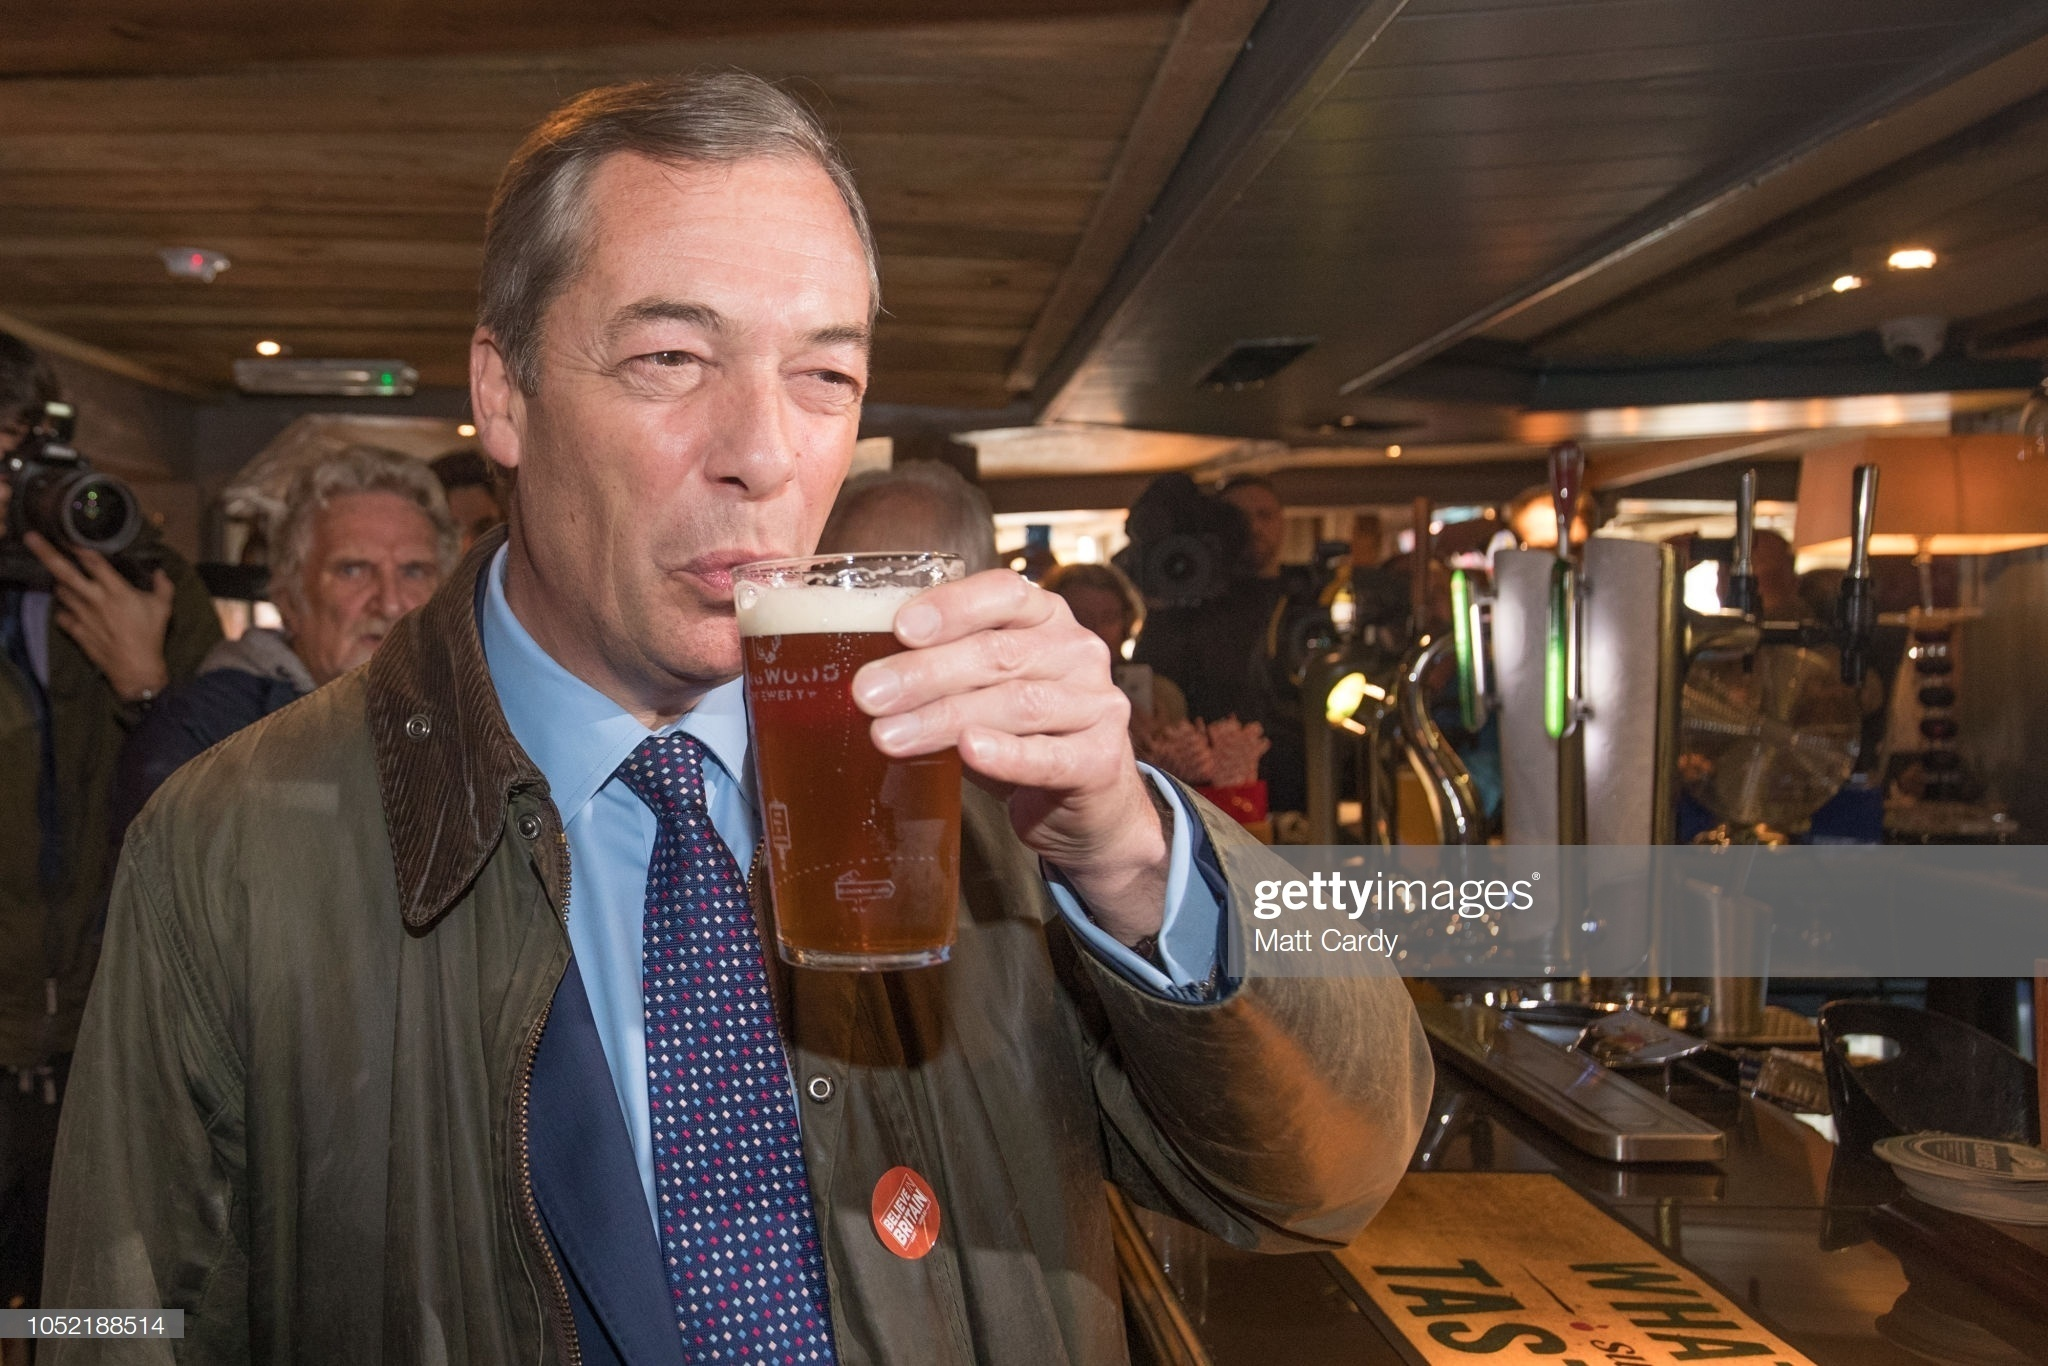whiskey: (713, 547, 969, 1008)
